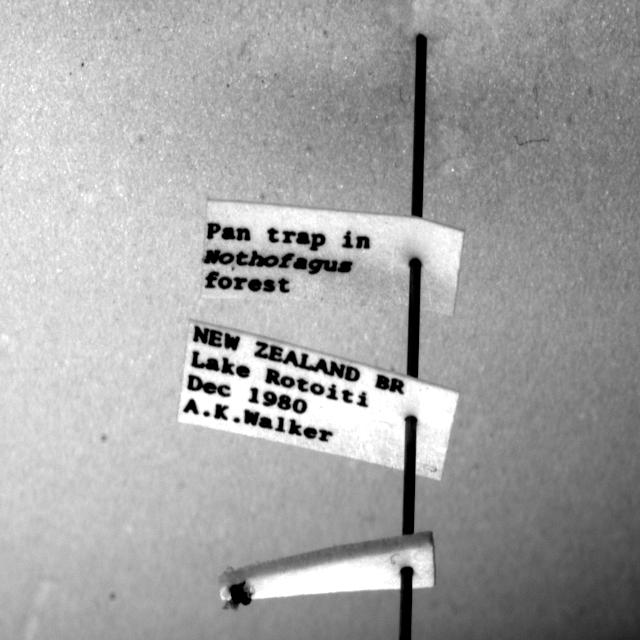typed_label: (178, 322, 459, 480), (202, 201, 464, 315)
